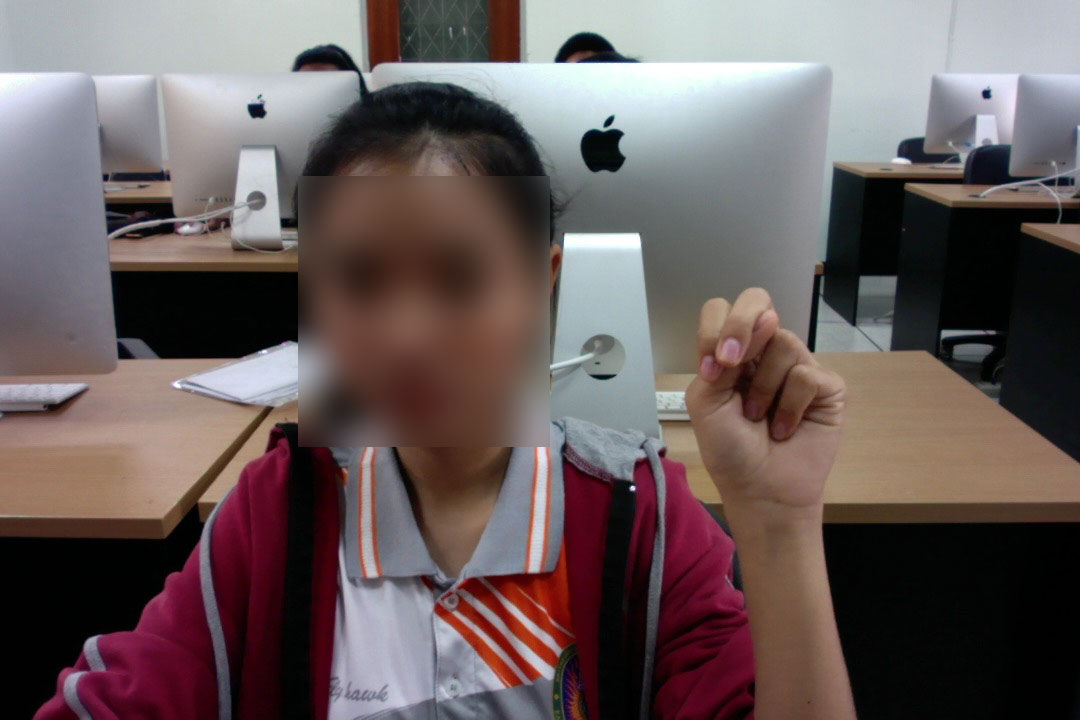nor: (675, 282, 857, 528)
